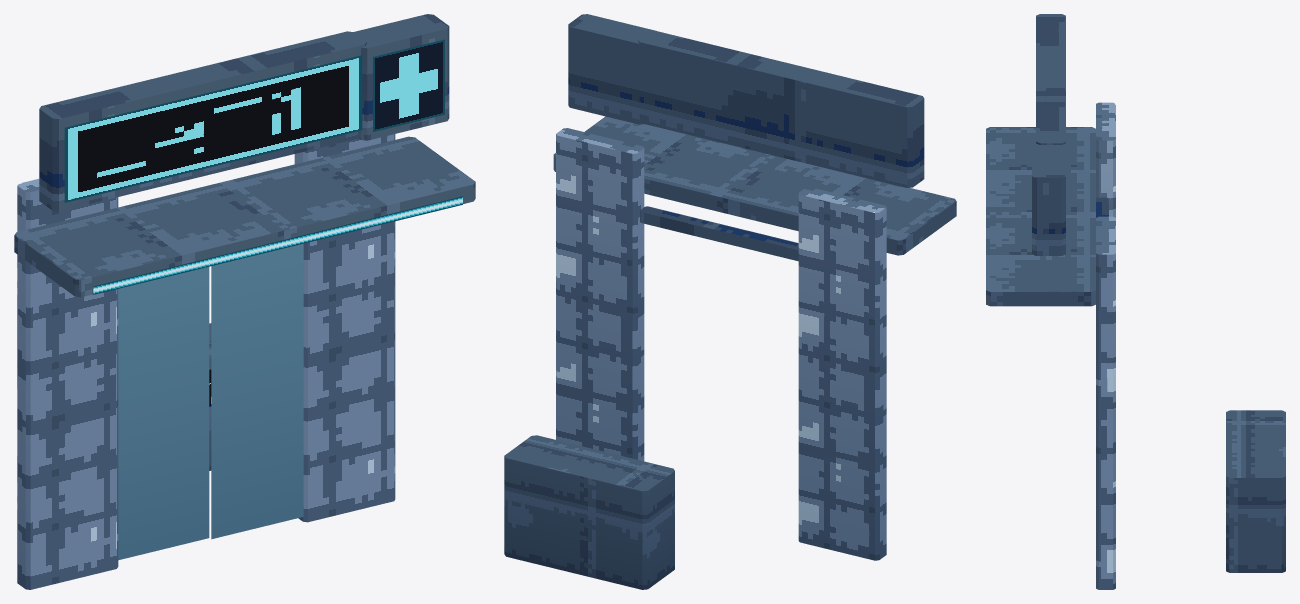
Rendered from cysign.clinic.glb.
The picture shows the model from 3 angles, left to right: view 1: azimuth 30°, elevation 25°; view 2: azimuth 150°, elevation 25°; view 3: azimuth 270°, elevation 25°; orthographic projection. The views are drawn at different scales.
Parts seen in each view (by area): view 1: kit_front, kit_card_cards; view 2: kit_front; view 3: kit_front.
Part boxes in pixels (x1,y1,x2,y2): kit_front: [14, 14, 475, 589]; kit_card_cards: [64, 39, 462, 560]; kit_front: [504, 14, 956, 589]; kit_front: [986, 14, 1285, 589].
Bounding box in the file's own units: 3.91 × 4.64 × 3.01.
8 materials, 7 textured.
